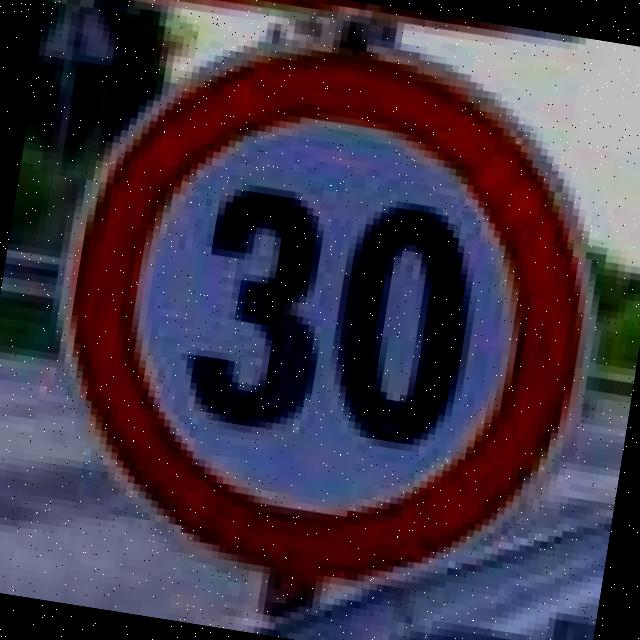Ograniczenie predkosci do 30: (16, 0, 634, 618)
